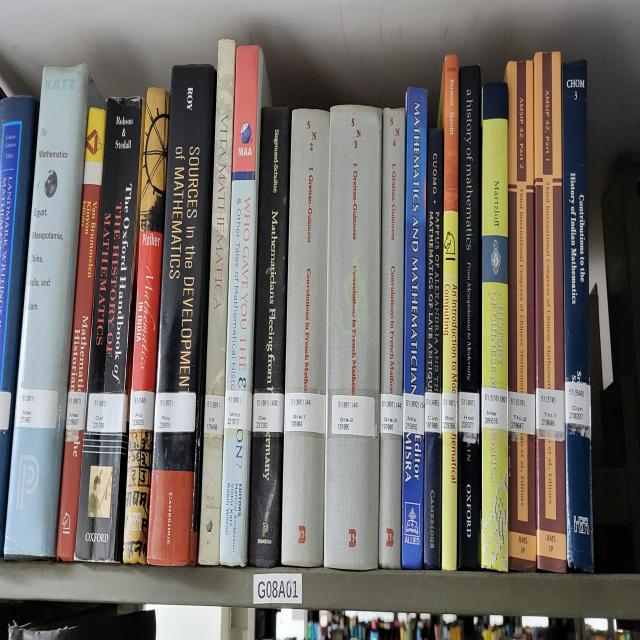Book: (4, 65, 104, 557), (146, 65, 216, 565), (75, 97, 145, 563), (220, 46, 271, 565), (324, 106, 381, 568), (122, 89, 170, 563), (56, 108, 106, 560), (281, 108, 330, 565), (199, 41, 236, 565), (249, 108, 291, 565), (0, 97, 39, 557), (534, 51, 566, 571), (562, 60, 594, 571), (505, 60, 536, 571), (481, 84, 509, 571), (401, 87, 428, 568), (379, 108, 405, 568), (458, 65, 481, 568), (439, 54, 459, 571), (424, 127, 444, 568)
Label: (284, 392, 326, 436), (331, 395, 375, 436), (15, 387, 59, 427), (154, 392, 196, 433), (86, 392, 128, 433), (536, 387, 565, 441), (252, 392, 285, 433), (565, 381, 591, 427), (509, 390, 535, 436), (481, 387, 508, 430), (224, 390, 252, 430), (459, 392, 480, 441), (402, 392, 425, 436), (130, 390, 155, 430), (380, 392, 402, 436), (204, 395, 225, 436), (66, 390, 86, 430), (442, 392, 458, 433), (425, 392, 441, 433)
